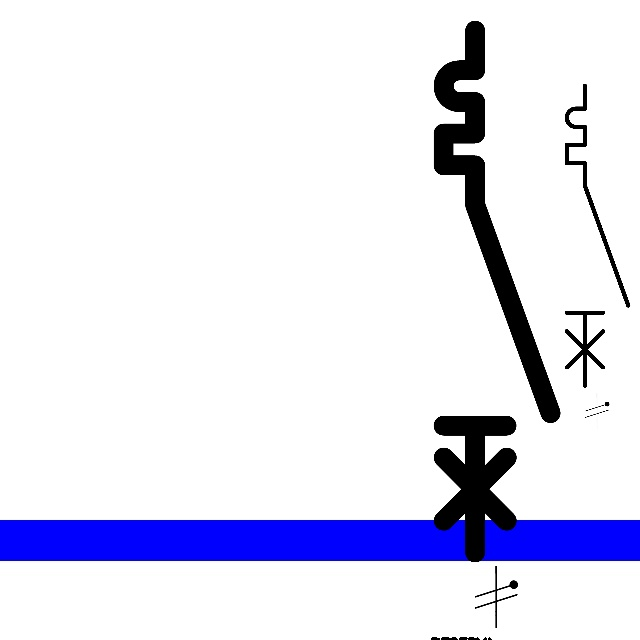interruptor_termomagnetico: (430, 17, 564, 566), (559, 78, 636, 393)
